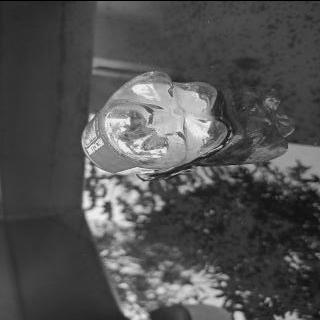bottle: (78, 68, 234, 180)
